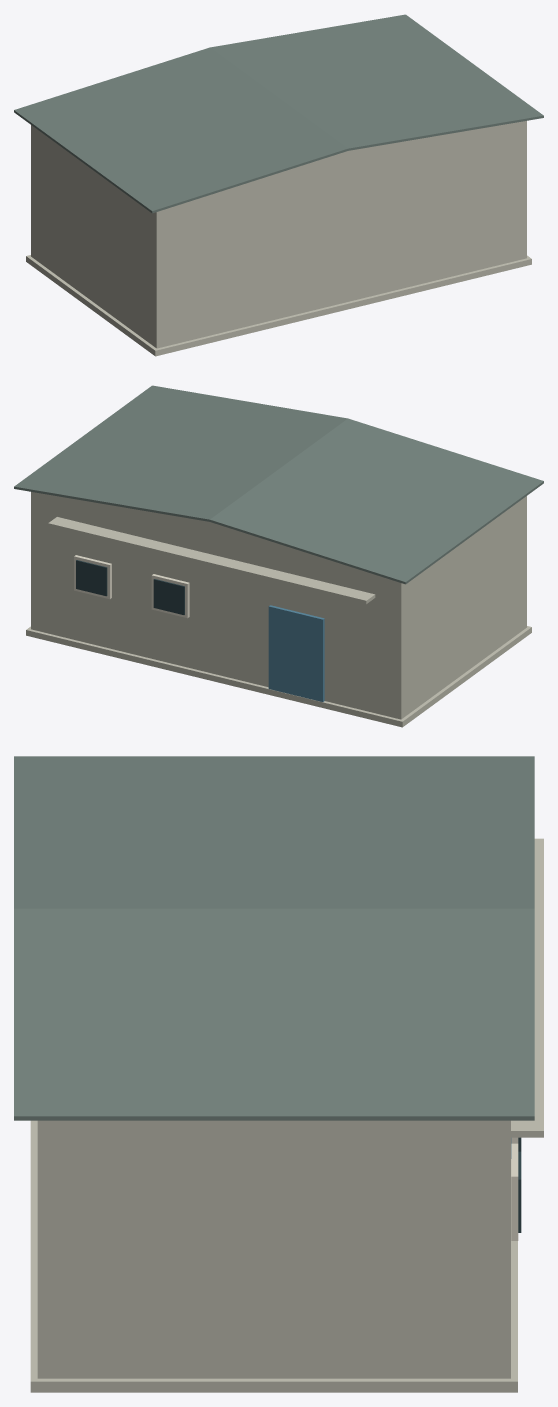
File: KOL_HBR_CTX_02.fbx
3 views of the same model, one above another, from view 1: azimuth 30°, elevation 25°; view 2: azimuth 150°, elevation 25°; view 3: azimuth 270°, elevation 25° (orthographic). The views are drawn at different scales.
Parts seen in each view (by area): view 1: KOL_HBR_CTX_02__Shell__Concrete, KOL_HBR_CTX_02__Shell__Roof; view 2: KOL_HBR_CTX_02__Shell__Concrete, KOL_HBR_CTX_02__Shell__Roof, KOL_HBR_CTX_02__Shell__Blue, KOL_HBR_CTX_02__Shell__Window, KOL_HBR_CTX_02__Shell__White; view 3: KOL_HBR_CTX_02__Shell__Roof, KOL_HBR_CTX_02__Shell__Concrete, KOL_HBR_CTX_02__Shell__White.
Part boxes in pixels (<box>): KOL_HBR_CTX_02__Shell__Concrete: <box>26,121,531,356</box>; KOL_HBR_CTX_02__Shell__Roof: <box>14,14,543,213</box>; KOL_HBR_CTX_02__Shell__Concrete: <box>26,492,531,727</box>; KOL_HBR_CTX_02__Shell__Roof: <box>14,385,543,584</box>; KOL_HBR_CTX_02__Shell__Blue: <box>268,605,324,701</box>; KOL_HBR_CTX_02__Shell__Window: <box>76,560,184,614</box>; KOL_HBR_CTX_02__Shell__White: <box>74,555,189,618</box>; KOL_HBR_CTX_02__Shell__Roof: <box>14,756,534,1120</box>; KOL_HBR_CTX_02__Shell__Concrete: <box>30,838,543,1392</box>; KOL_HBR_CTX_02__Shell__White: <box>511,1137,518,1240</box>.
Bounding box in the file's own units: 36 × 14.5 × 22.4.
